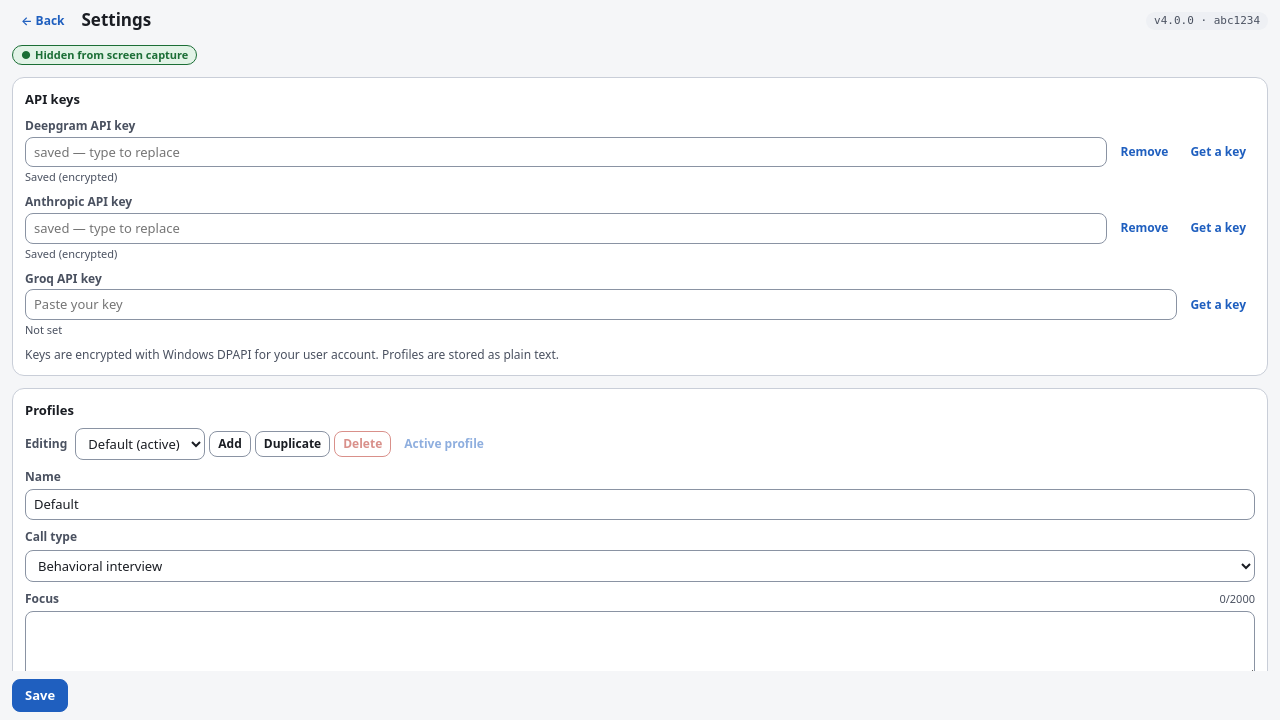
Test case: API keys › key_emptying_field_does_not_remove
Type "abc" into the password field labelled "Anthropic API key" at coordinates (566, 228), box [25,213,1108,244]
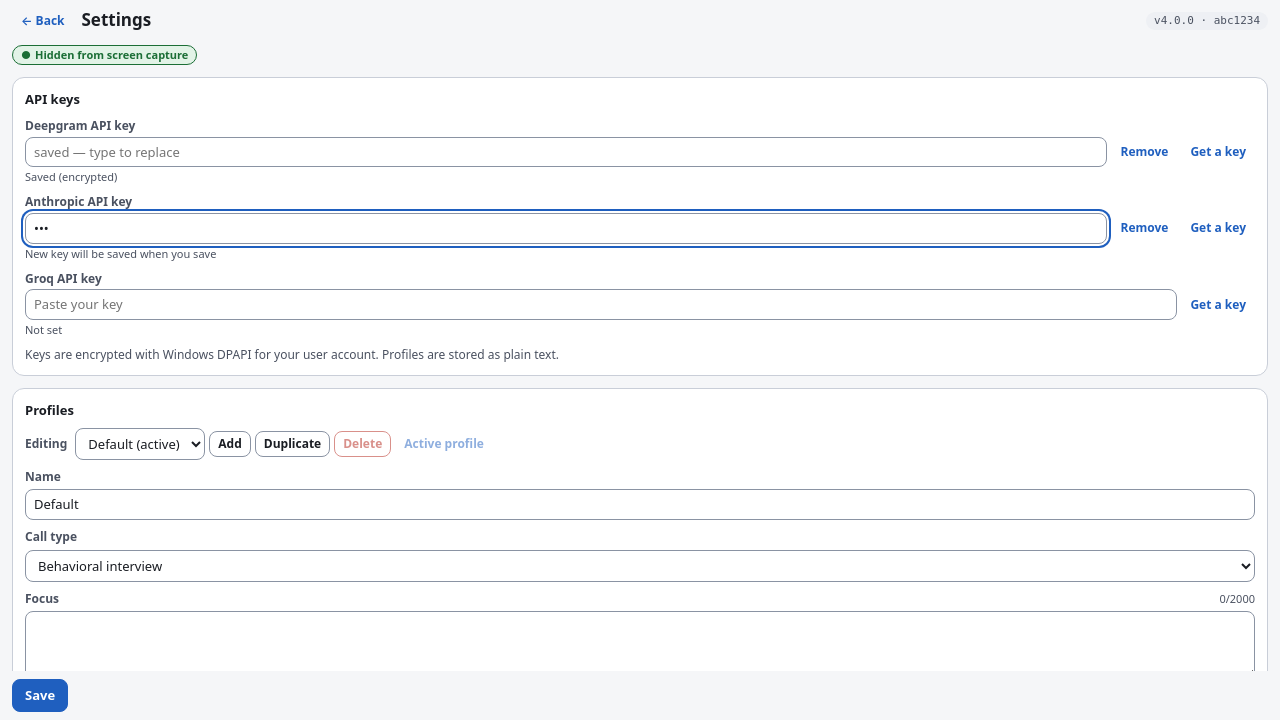
Clear the password field labelled "Anthropic API key" at coordinates (566, 228), box [25,213,1108,244]
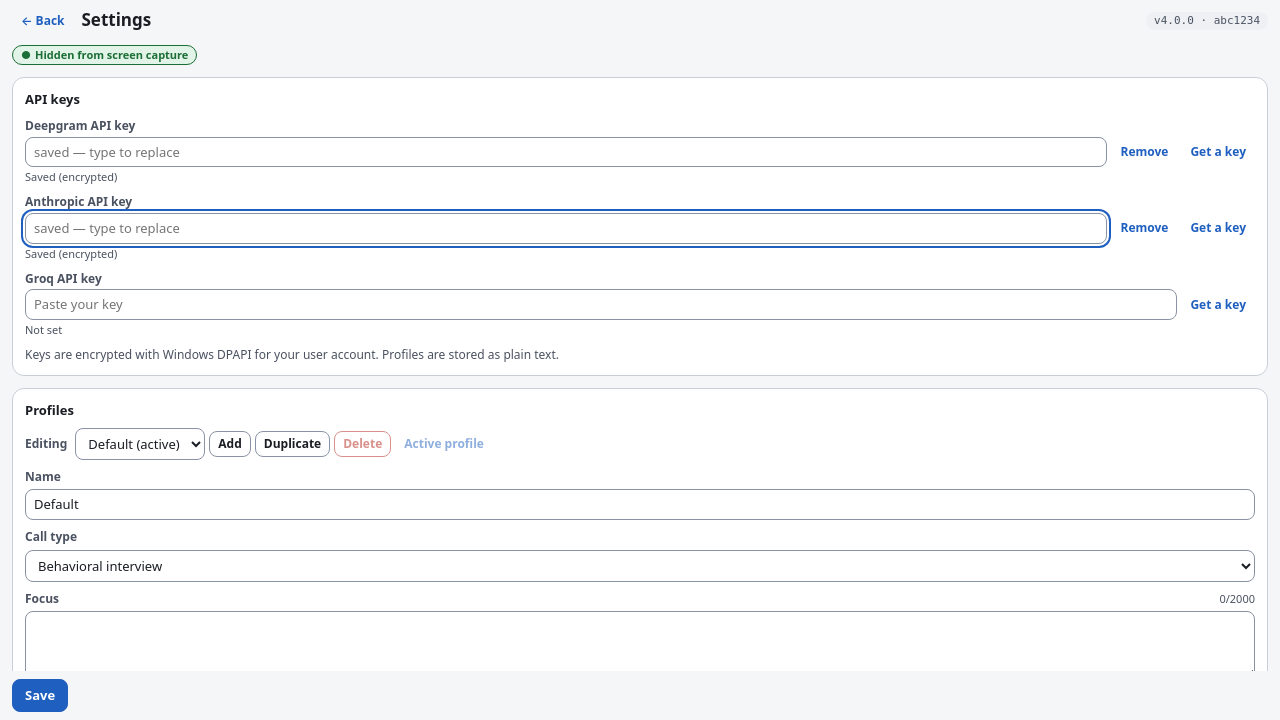
Click the button "Save" at coordinates (40, 696), box [12,679,68,712]
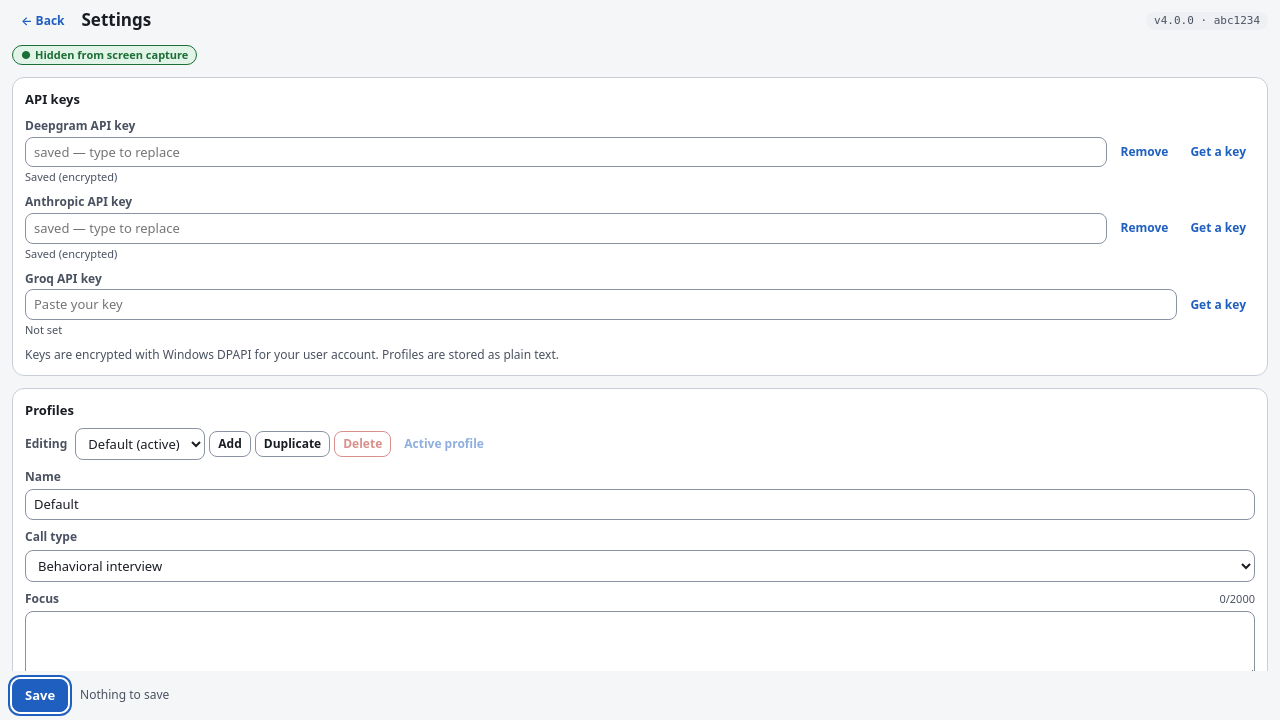
Now the message with test id "save-msg" reads "Nothing to save", box [80,687,169,704]
